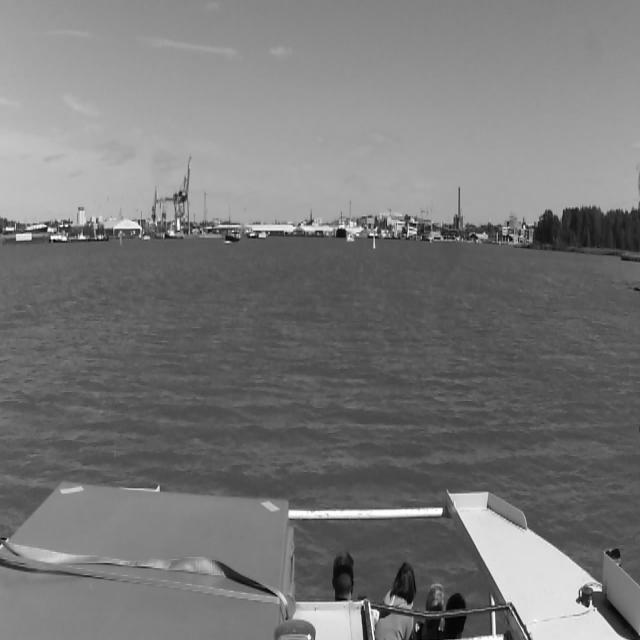buoy: (372, 235, 376, 249), (120, 235, 122, 246)
ship: (336, 210, 346, 239), (225, 230, 241, 243), (346, 232, 354, 242)
